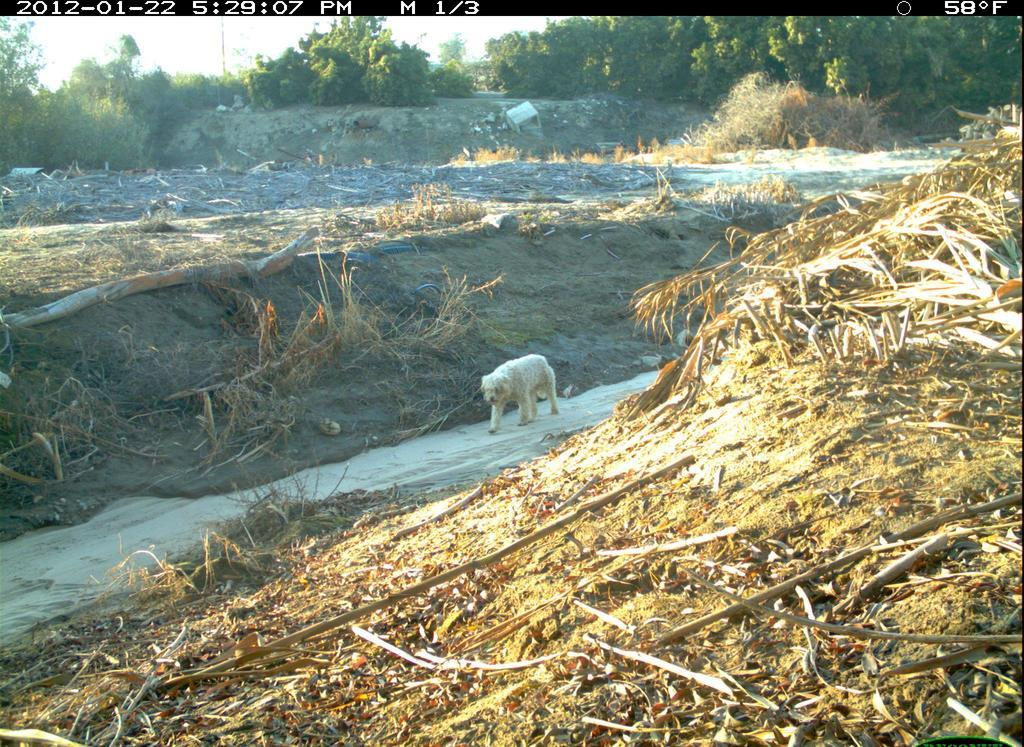dog: (470, 349, 570, 437)
